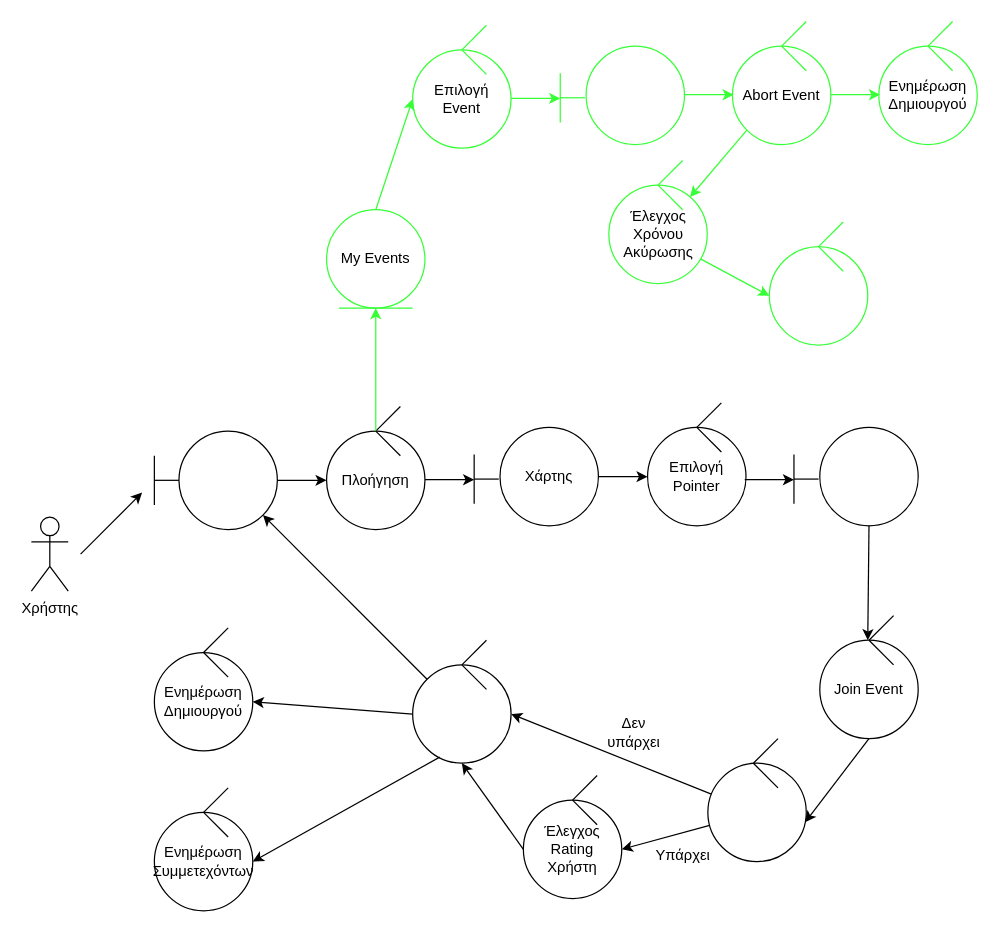
This 999x932 diagram has some shape labels left out. The shapes that lost their labels are listed below. From the top down, each one's centre as x and y in pixels, then its label:
the point at 634,95: Event
the point at 818,295: Xp Penalty
the point at 227,480: Κεντρική Οθόνη
the point at 868,476: Λεπτομέρειες Event
the point at 461,713: Καταχώρηση ως Συμμετέχων
the point at 756,812: Έλεγχος Rating Επιλογής
